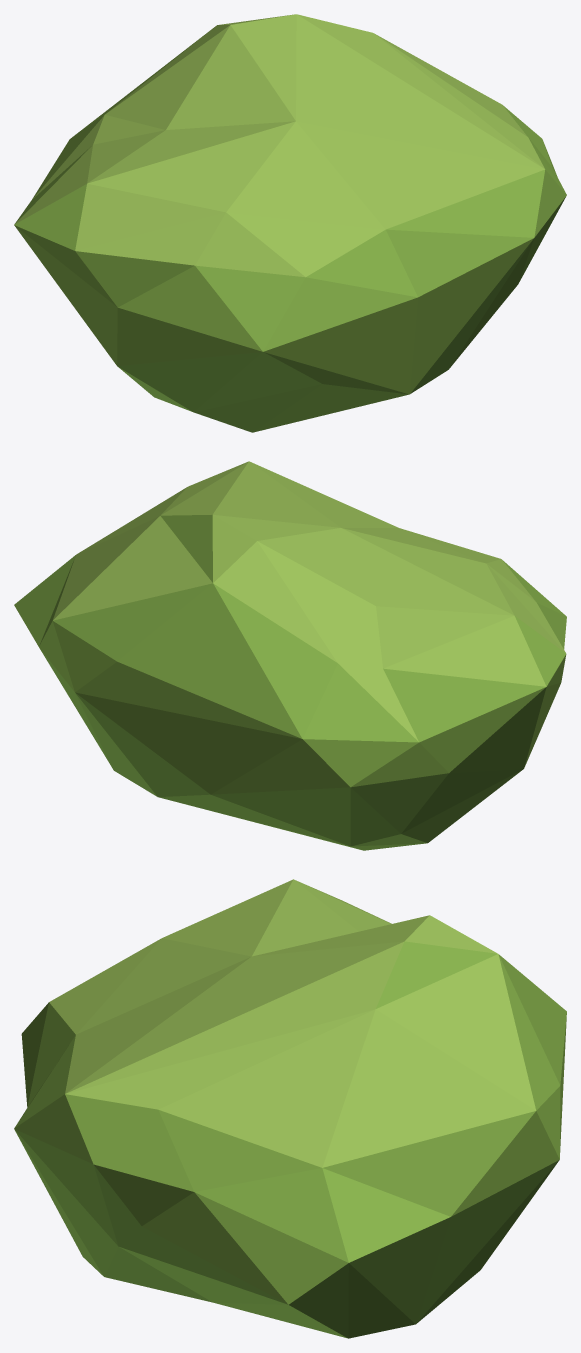
Rendered from WR_Env_Bush_Upright_03.glb.
3 renders of one model, top to bottom at view 1: azimuth 30°, elevation 25°; view 2: azimuth 150°, elevation 25°; view 3: azimuth 270°, elevation 25°, orthographic. The views are drawn at different scales.
Parts seen in each view (by area): view 1: BushUpright_CONNECTED_Foliage; view 2: BushUpright_CONNECTED_Foliage; view 3: BushUpright_CONNECTED_Foliage.
Part boxes in pixels (x1=…): BushUpright_CONNECTED_Foliage: x1=14, y1=14, x2=566, y2=432; BushUpright_CONNECTED_Foliage: x1=14, y1=461, x2=566, y2=850; BushUpright_CONNECTED_Foliage: x1=14, y1=879, x2=566, y2=1338.
Bounding box in the file's own units: 1.01 × 0.6 × 0.7644.
